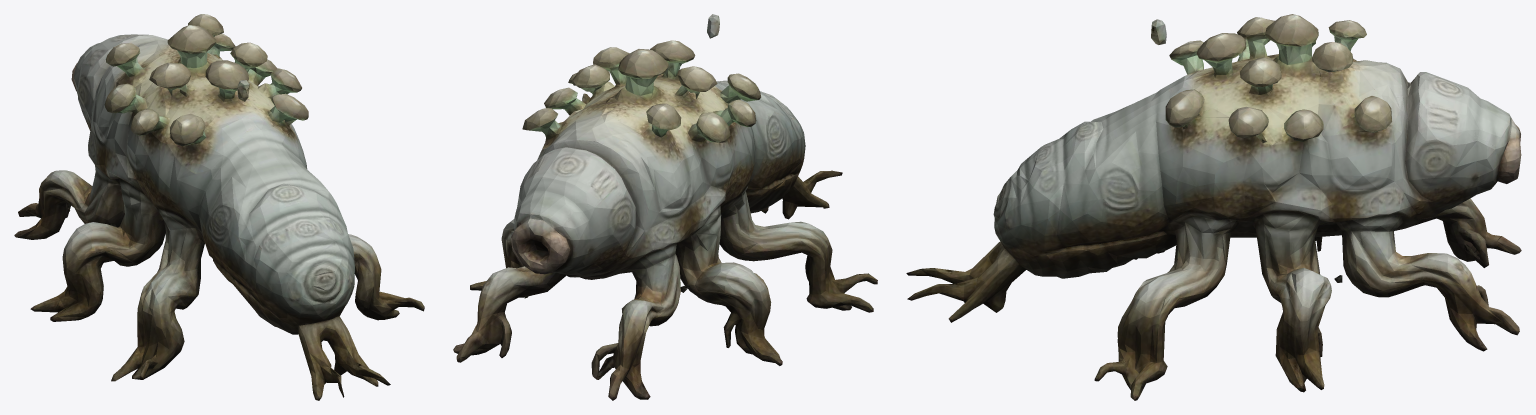
The model's file is sporerootCrawler.glb.
3 views of the same model, side by side, from view 1: azimuth 30°, elevation 25°; view 2: azimuth 150°, elevation 25°; view 3: azimuth 270°, elevation 25° (orthographic). The views are drawn at different scales.
Parts seen in each view (by area): view 1: world; view 2: world; view 3: world.
Part boxes in pixels (<box>): world: <box>14,14,424,400</box>; world: <box>453,14,877,400</box>; world: <box>906,14,1521,400</box>.
Size of the model in its own units: 0.648 by 0.5432 by 0.9921.
Materials: 1 (1 with a texture image).
